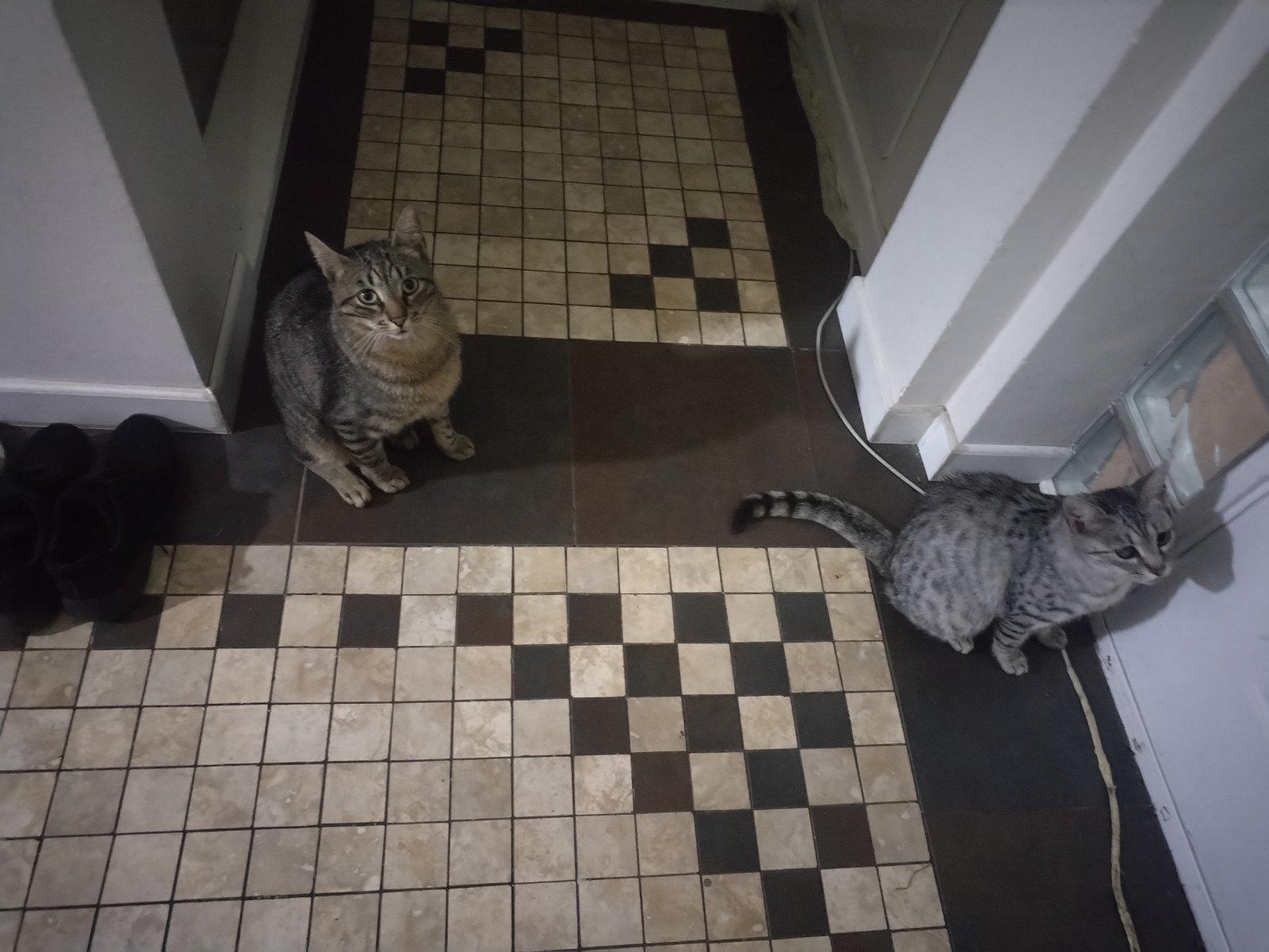macka: (733, 459, 1180, 683), (260, 204, 468, 508)
